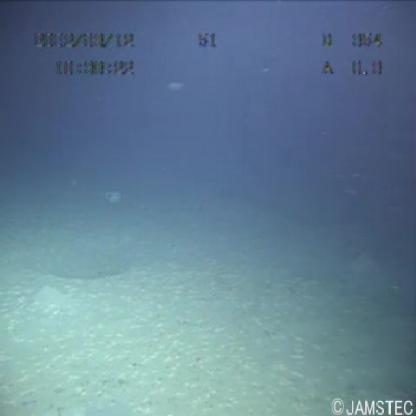Rác: (96, 185, 131, 209)
